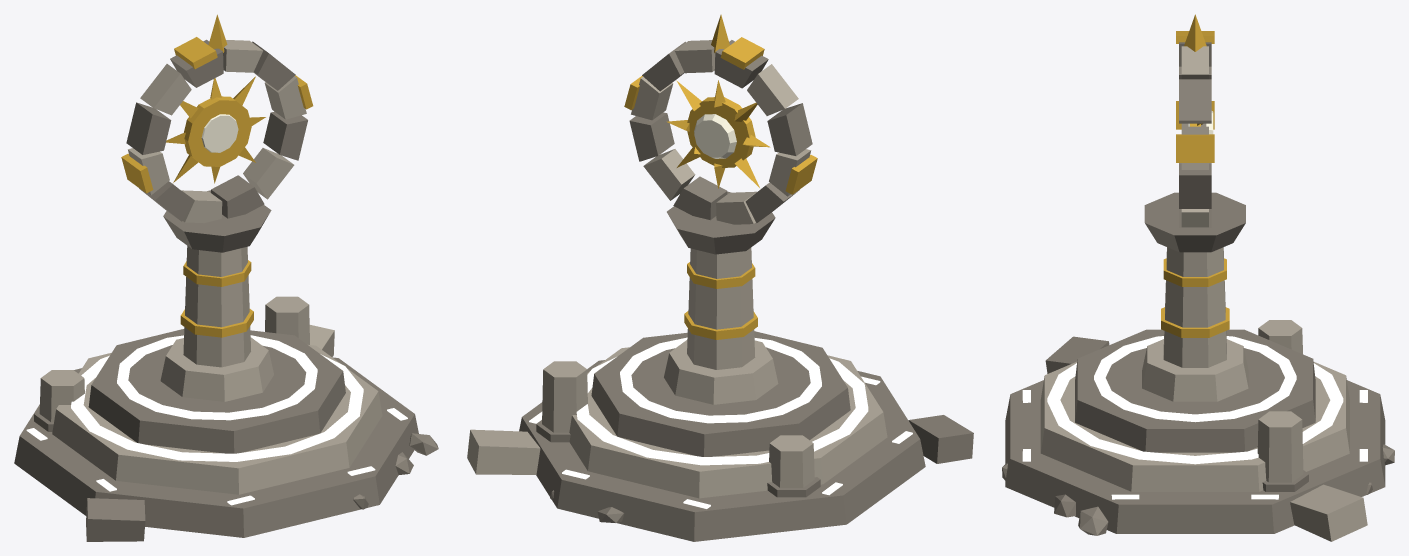
Rendered from Shrine_Light.fbx.
3 views of the same model, side by side, from view 1: azimuth 30°, elevation 25°; view 2: azimuth 150°, elevation 25°; view 3: azimuth 270°, elevation 25° (orthographic).
Parts seen in each view (by area): view 1: Shrine_Light; view 2: Shrine_Light; view 3: Shrine_Light.
Boxes of the visible parts, box(x1,y1,x2,y2) form: Shrine_Light: box(14, 14, 438, 541); Shrine_Light: box(467, 14, 973, 541); Shrine_Light: box(1002, 14, 1394, 541).
Size of the model in its own units: 3.16 by 3.54 by 2.87.
